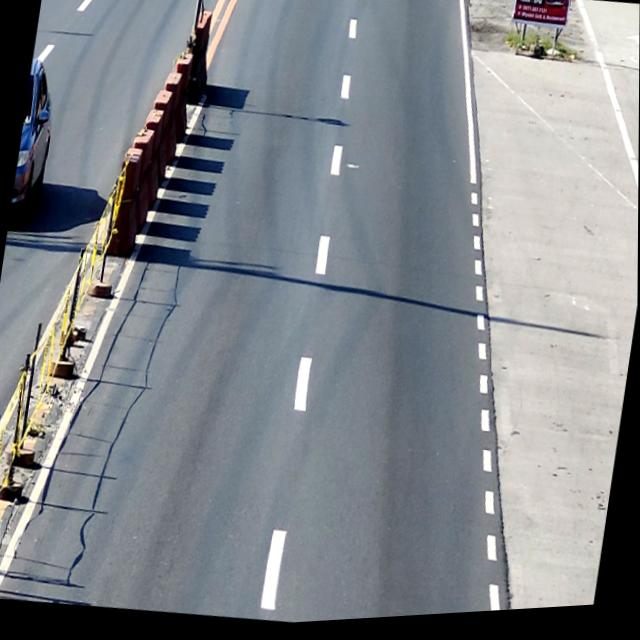Car: (10, 54, 63, 221)
